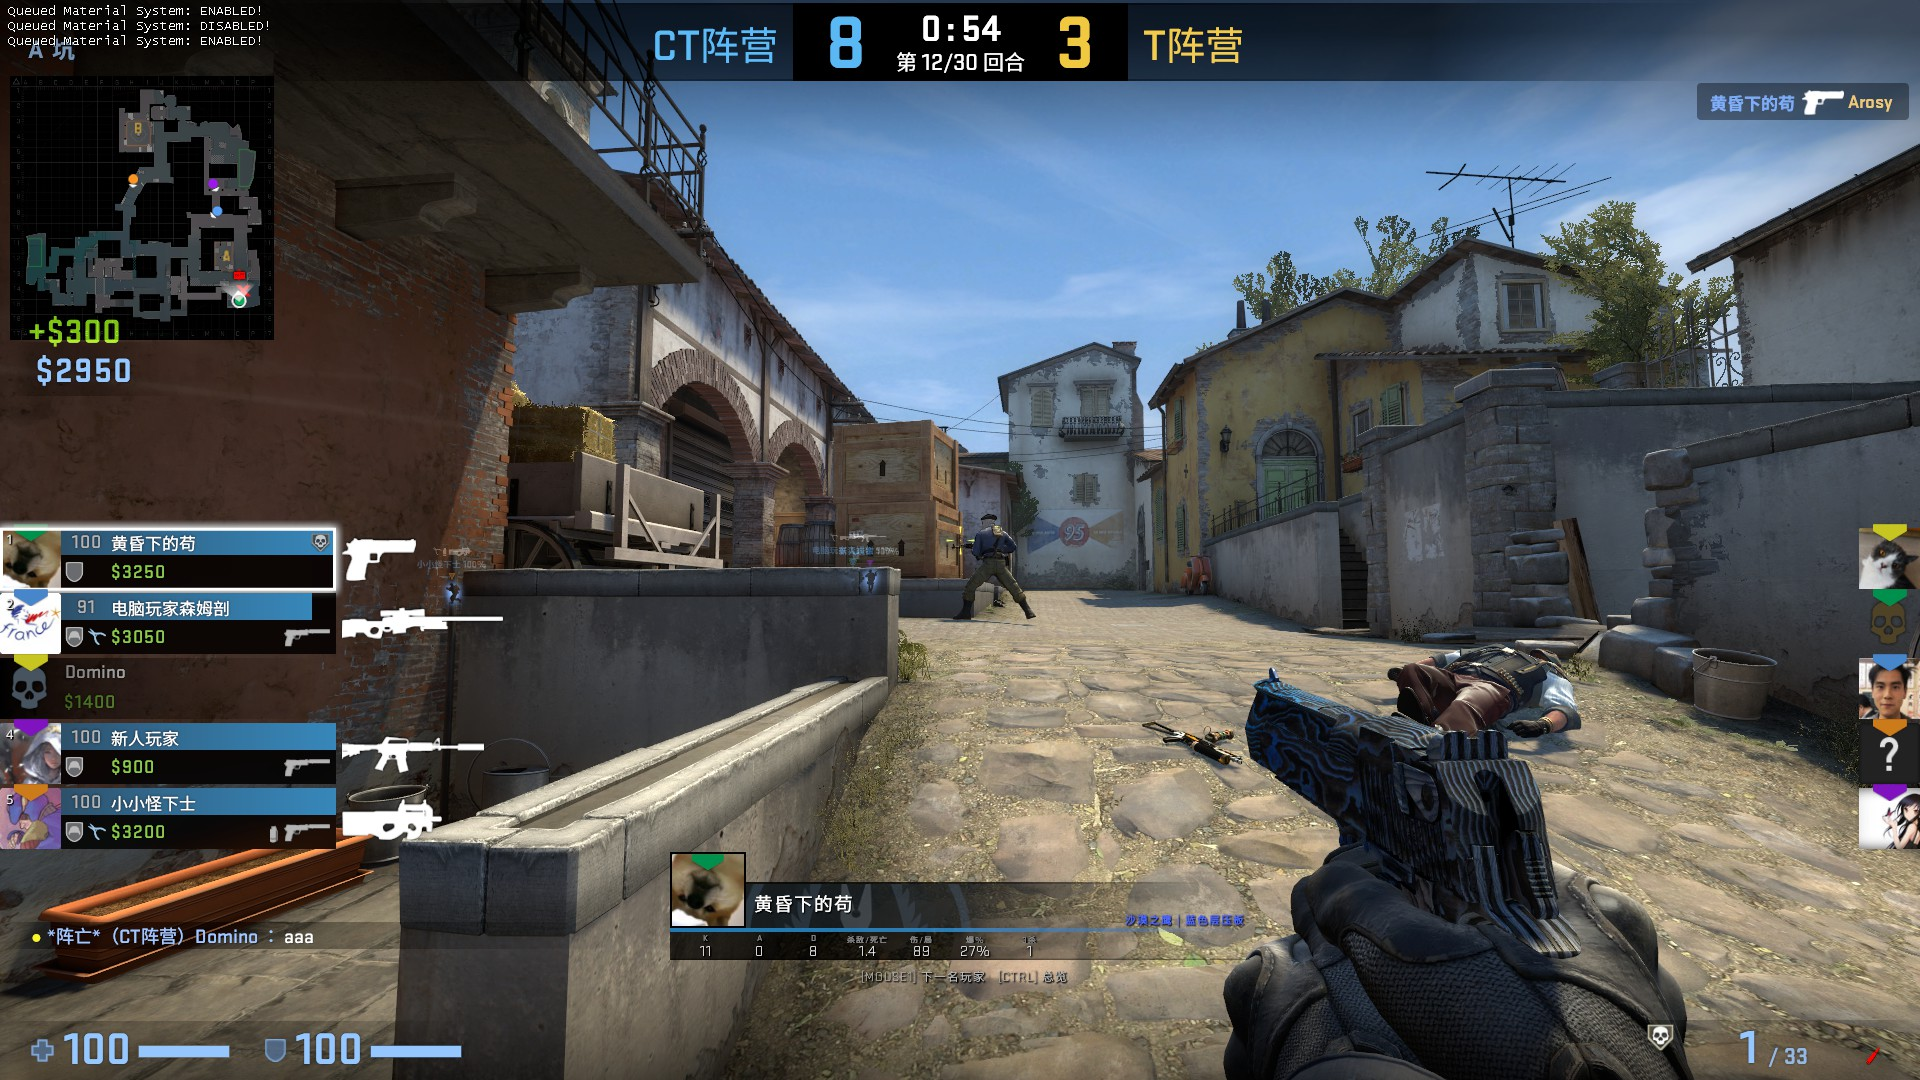head: (1526, 643, 1566, 672), (978, 512, 996, 529)
